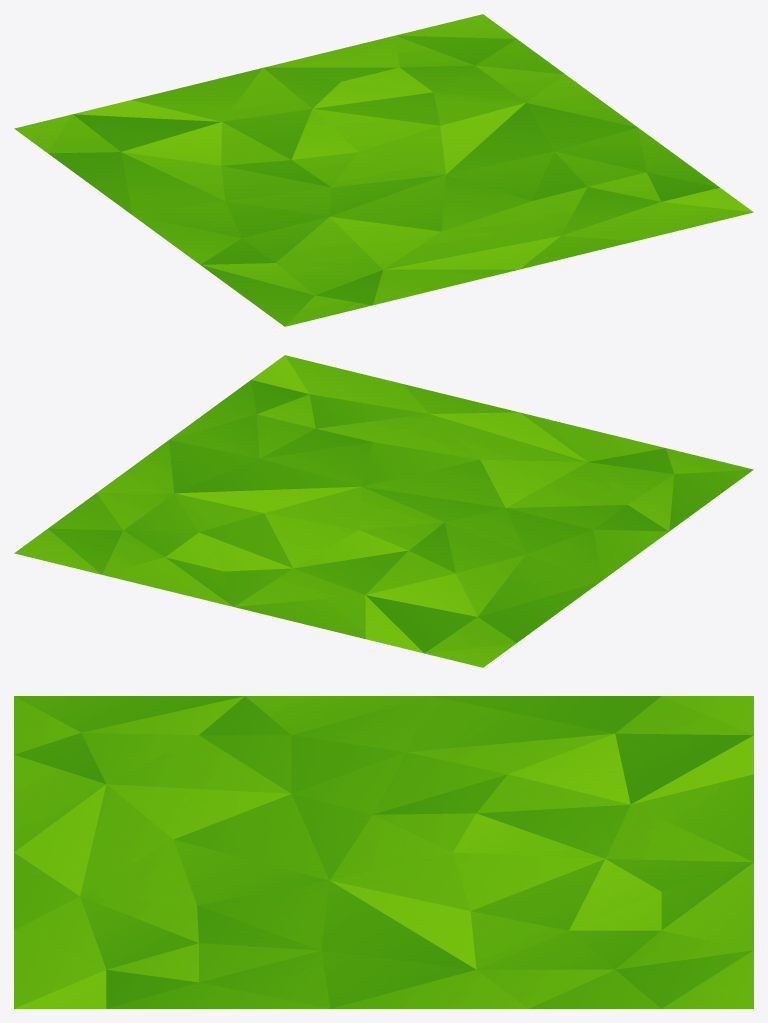
Rendered from GL-Terrain-part-05-LOD2.fbx.
3 renders of one model, top to bottom at view 1: azimuth 30°, elevation 25°; view 2: azimuth 150°, elevation 25°; view 3: azimuth 270°, elevation 25°, orthographic. The views are drawn at different scales.
Parts seen in each view (by area): view 1: GL_Terrain_part_05; view 2: GL_Terrain_part_05; view 3: GL_Terrain_part_05.
Part boxes in pixels (bbox=[...]): GL_Terrain_part_05: bbox=[14, 14, 753, 326]; GL_Terrain_part_05: bbox=[14, 355, 753, 667]; GL_Terrain_part_05: bbox=[14, 696, 753, 1008].
Bounding box in the file's own units: 6 × 0 × 6.
